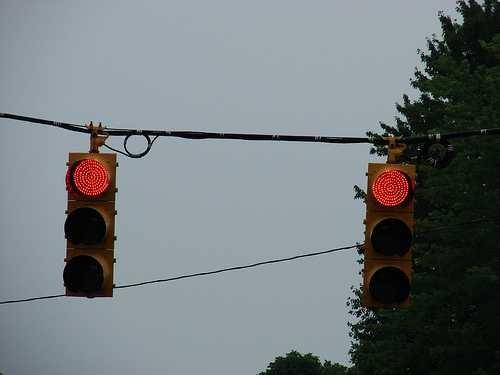red: (365, 164, 415, 315), (66, 151, 111, 298), (366, 166, 413, 213), (69, 149, 111, 199)
